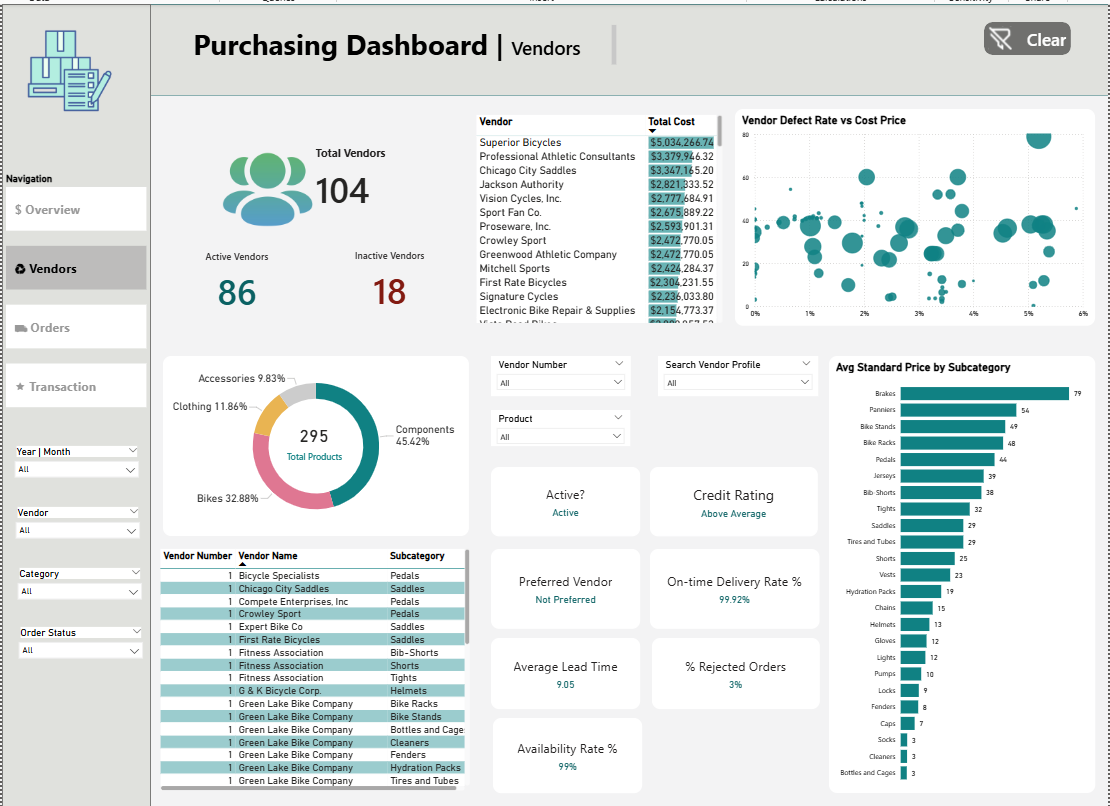

What the dashboard file says about the page in this screenshot:
{"tool":"powerbi","page":{"name":"♻ Vendors","canvas":[1900,1380],"ordinal":1},"visuals":[{"type":"cardVisual","fields":{"Data":["Calculation.Inactive Vendor"]},"box":[539.1,370.3,253.1,208.6],"z":0},{"type":"pageNavigator","title":"Navigation","box":[6.6,289.4,241.5,405.9],"z":1000,"group":"g2"},{"type":"cardVisual","fields":{"Data":["Calculation.Active Vendor"]},"box":[267.2,351.6,271.9,248.4],"z":1000},{"type":"scatterChart","title":"Vendor Defect Rate vs Cost Price","fields":{"Category":["Dim_Vendor.Vendor Name"],"X":["Calculation.% Rejected Qty by Vendor"],"Y":["Calculation.Average Standard Price"],"Size":["Calculation.Total Cost"]},"box":[1258.1,180.2,617.9,372.5],"z":2000},{"type":"slicer","fields":{"Values":["Date.Date.Variation.Date Hierarchy.Year","Date.Date.Variation.Date Hierarchy.Quarter","Date.Date.Variation.Date Hierarchy.Month","Date.Date.Variation.Date Hierarchy.Day"]},"box":[11.7,753.9,232.9,92.5],"z":2000,"group":"g2"},{"type":"image","box":[13.9,36.1,204.9,157.4],"z":3000,"group":"g2"},{"type":"cardVisual","fields":{"Data":["Calculation.Total Vendors"]},"box":[362.2,224.9,350.1,187.1],"z":3000},{"type":"tableEx","fields":{"Values":["Dim_Vendor.Vendor Name","Calculation.Total  Cost"]},"box":[808.2,185.2,432.8,367.2],"z":4000},{"type":"slicer","fields":{"Values":["Dim_Vendor.Vendor Name"]},"box":[13.9,859,232.9,77.1],"z":4000,"group":"g2"},{"type":"barChart","title":"Avg Standard Price by Subcategory","fields":{"Y":["Calculation.Average Standard Price"],"Category":["Dim_Product.Subcategory"]},"box":[1418.7,605,457,750.3],"z":5000},{"type":"slicer","fields":{"Values":["Fact_PurchaseOrderHeader.Status Description"]},"box":[18.6,1064,232.9,95.9],"z":5000,"group":"g2"},{"type":"cardVisual","fields":{"Data":["Min(Dim_Vendor.Vendor Status)"]},"box":[840.1,795.2,256.3,118.9],"z":6000},{"type":"slicer","fields":{"Values":["Dim_Product.Category"]},"box":[17.4,963.5,232.9,92.5],"z":6000,"group":"g2"},{"type":"cardVisual","fields":{"Data":["Min(Dim_Vendor.Credit Rating Description)"]},"box":[1112.2,795.2,288,118.9],"z":7000},{"type":"slicer","fields":{"Values":["Dim_Vendor.Vendor Name"]},"box":[1126,604.2,274.6,68.7],"z":8000},{"type":"cardVisual","fields":{"Data":["Min(Dim_Vendor.Preferred Vendor Status)"]},"box":[840.1,935.2,256.3,137.4],"z":9000},{"type":"slicer","fields":{"Values":["Dim_Vendor.Vendor Number"]},"box":[839.3,604.2,240.3,68.7],"z":10000},{"type":"cardVisual","fields":{"Data":["Calculation.On-time Delivery %"]},"box":[1112.2,935.2,290.6,137.4],"z":11000},{"type":"slicer","fields":{"Values":["Dim_ProductSubcategory.Name"]},"box":[839.3,696.9,238.6,61.8],"z":12000},{"type":"cardVisual","fields":{"Data":["Calculation.Average Lead Time (Days)"]},"box":[840.1,1088.5,256.3,121.5],"z":13000},{"type":"cardVisual","fields":{"Data":["Calculation.% Rejected Qty by Vendor"]},"box":[1114.9,1088.5,288,121.5],"z":14000},{"type":"donutChart","fields":{"Y":["Calculation.Total Product"],"Category":["Dim_Product.Category"]},"box":[276.6,604.7,525,309.4],"z":14500,"group":"g1"},{"type":"group","id":"g1","title":"Group 2","box":[276.6,604.7,525,309.4],"z":15000},{"type":"cardVisual","fields":{"Data":["Calculation.Total Product"]},"box":[469.1,720,135.2,72.7],"z":15500,"group":"g1"},{"type":"tableEx","fields":{"Values":["Dim_Vendor.Vendor Number","Dim_Vendor.Vendor Name","Dim_Product.Subcategory"]},"box":[266.8,929.9,541.6,425.3],"z":16000},{"type":"cardVisual","fields":{"Data":["Calculation.Availability Rate %"]},"box":[842.8,1225.8,256.3,129.5],"z":17000},{"type":"shape","box":[11.5,0,1888.5,157.4],"z":18000},{"type":"shape","box":[0,0,255.7,1482],"z":19000},{"type":"group","id":"g2","title":"Group 4","box":[6.6,36.1,244.9,1123.8],"z":20000},{"type":"textbox","box":[269.5,30.9,789.6,84.1],"z":21000},{"type":"actionButton","box":[1685.5,30.9,149.3,56.6],"z":22000}]}

Visuals, with their boxes on the page's 1900x1380 design canvas (x1, y1, x2, y2). These are canvas units, not pixel positions in the 1110x806 screenshot, which may show the page scaled, cropped or inside an application window:
cardVisual - Calculation.Inactive Vendor: x1=539 y1=370 x2=792 y2=579
"Navigation" pageNavigator: x1=7 y1=289 x2=248 y2=695
cardVisual - Calculation.Active Vendor: x1=267 y1=352 x2=539 y2=600
"Vendor Defect Rate vs Cost Price" scatterChart: x1=1258 y1=180 x2=1876 y2=553
slicer - Date.Date.Variation.Date Hierarchy.Year x Date.Date.Variation.Date Hierarchy.Quarter: x1=12 y1=754 x2=245 y2=846
image: x1=14 y1=36 x2=219 y2=194
cardVisual - Calculation.Total Vendors: x1=362 y1=225 x2=712 y2=412
tableEx - Dim_Vendor.Vendor Name x Calculation.Total  Cost: x1=808 y1=185 x2=1241 y2=552
slicer - Dim_Vendor.Vendor Name: x1=14 y1=859 x2=247 y2=936
"Avg Standard Price by Subcategory" barChart: x1=1419 y1=605 x2=1876 y2=1355
slicer - Fact_PurchaseOrderHeader.Status Description: x1=19 y1=1064 x2=252 y2=1160
cardVisual - Min(Dim_Vendor.Vendor Status): x1=840 y1=795 x2=1096 y2=914
slicer - Dim_Product.Category: x1=17 y1=964 x2=250 y2=1056
cardVisual - Min(Dim_Vendor.Credit Rating Description): x1=1112 y1=795 x2=1400 y2=914
slicer - Dim_Vendor.Vendor Name: x1=1126 y1=604 x2=1401 y2=673
cardVisual - Min(Dim_Vendor.Preferred Vendor Status): x1=840 y1=935 x2=1096 y2=1073
slicer - Dim_Vendor.Vendor Number: x1=839 y1=604 x2=1080 y2=673
cardVisual - Calculation.On-time Delivery %: x1=1112 y1=935 x2=1403 y2=1073
slicer - Dim_ProductSubcategory.Name: x1=839 y1=697 x2=1078 y2=759
cardVisual - Calculation.Average Lead Time (Days): x1=840 y1=1088 x2=1096 y2=1210
cardVisual - Calculation.% Rejected Qty by Vendor: x1=1115 y1=1088 x2=1403 y2=1210
donutChart - Calculation.Total Product x Dim_Product.Category: x1=277 y1=605 x2=802 y2=914
"Group 2" group: x1=277 y1=605 x2=802 y2=914
cardVisual - Calculation.Total Product: x1=469 y1=720 x2=604 y2=793
tableEx - Dim_Vendor.Vendor Number x Dim_Vendor.Vendor Name: x1=267 y1=930 x2=808 y2=1355
cardVisual - Calculation.Availability Rate %: x1=843 y1=1226 x2=1099 y2=1355
shape: x1=12 y1=0 x2=1900 y2=157
shape: x1=0 y1=0 x2=256 y2=1482
"Group 4" group: x1=7 y1=36 x2=252 y2=1160
textbox: x1=270 y1=31 x2=1059 y2=115
actionButton: x1=1686 y1=31 x2=1835 y2=88
